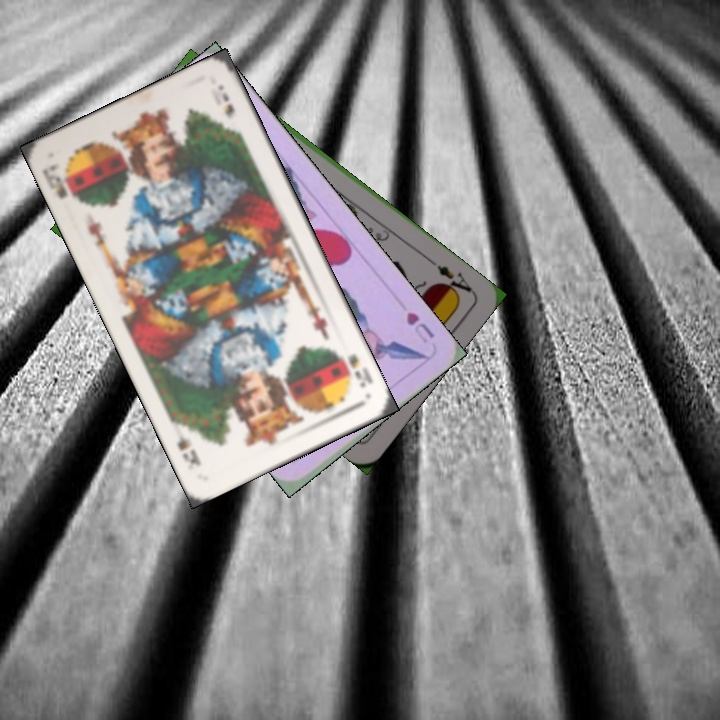EA: (433, 261, 476, 301)
HU: (402, 308, 437, 341)
SK: (343, 350, 376, 391), (39, 159, 70, 202)
